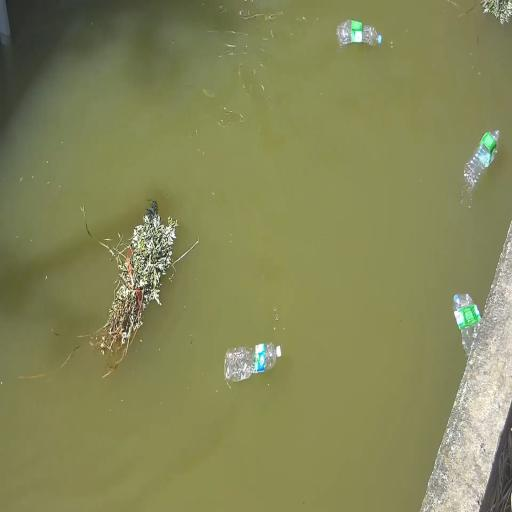plastic: (225, 343, 281, 382), (464, 130, 499, 191), (454, 294, 481, 356), (337, 20, 381, 46)
twig: (91, 201, 178, 370), (481, 0, 512, 24)
